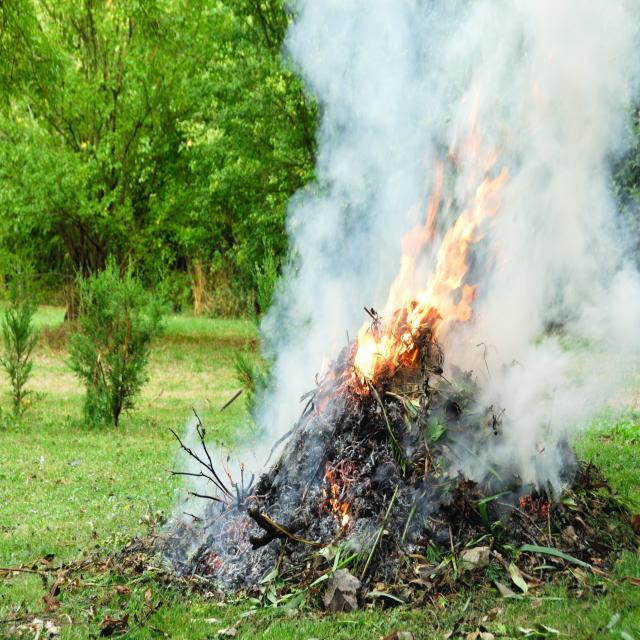Fire: (348, 140, 508, 396), (320, 460, 360, 534), (310, 362, 348, 417), (520, 490, 550, 514), (205, 551, 223, 574)
Smoke: (291, 2, 640, 403), (250, 190, 346, 457), (484, 336, 572, 488), (181, 422, 268, 511)
